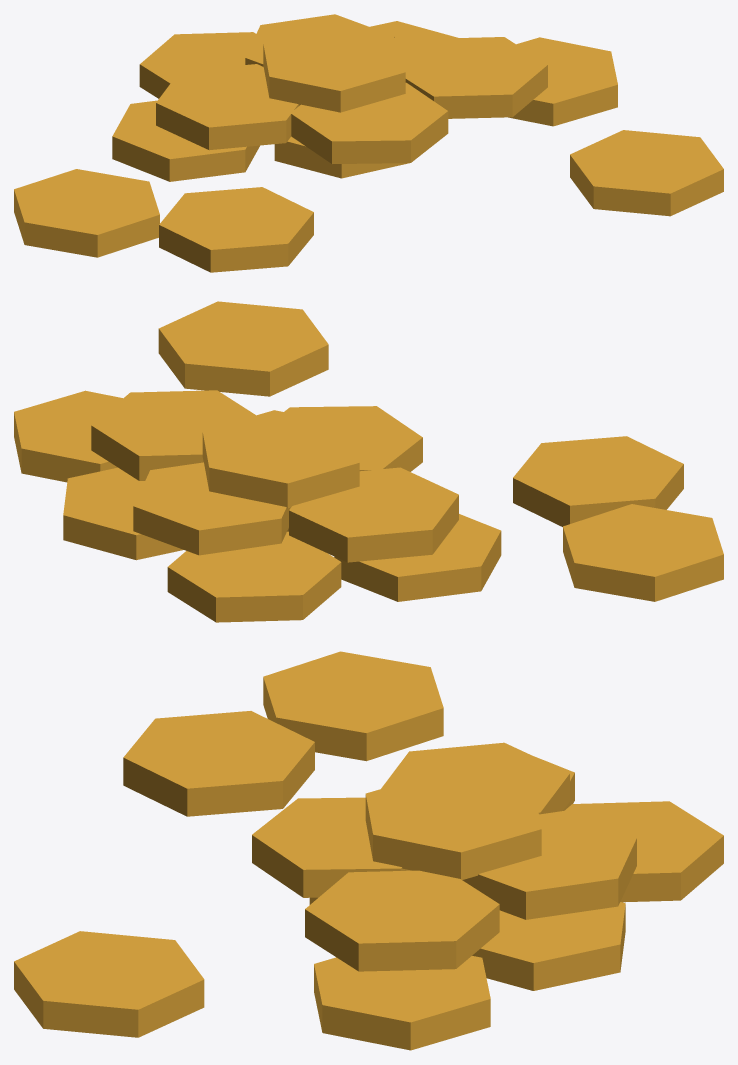
File: Coin_6.fbx
3 views of the same model, one above another, from view 1: azimuth 30°, elevation 25°; view 2: azimuth 150°, elevation 25°; view 3: azimuth 270°, elevation 25° (orthographic). The views are drawn at different scales.
Visible parts, largest first — view 1: Coin_6; view 2: Coin_6; view 3: Coin_6.
Boxes of the visible parts, bbox=[...] form: Coin_6: bbox=[14, 14, 723, 272]; Coin_6: bbox=[14, 301, 723, 622]; Coin_6: bbox=[14, 651, 723, 1050].
Size of the model in its own units: 27.99 by 2.91 by 22.63.
